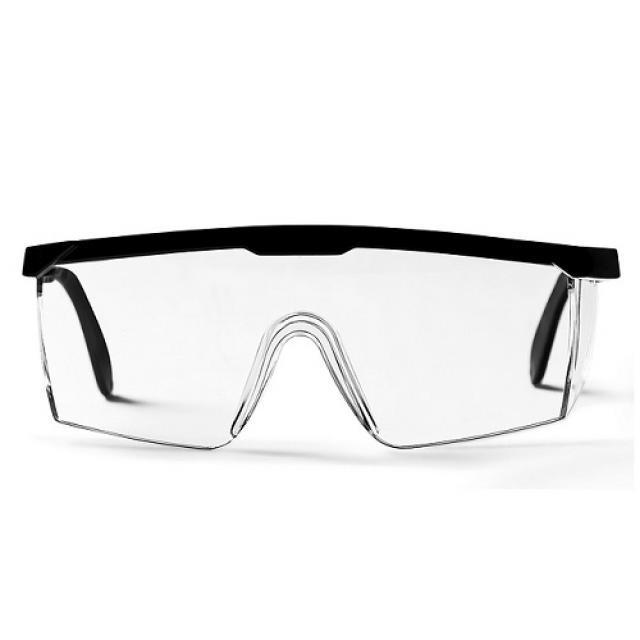Goggles: (4, 213, 626, 469)
